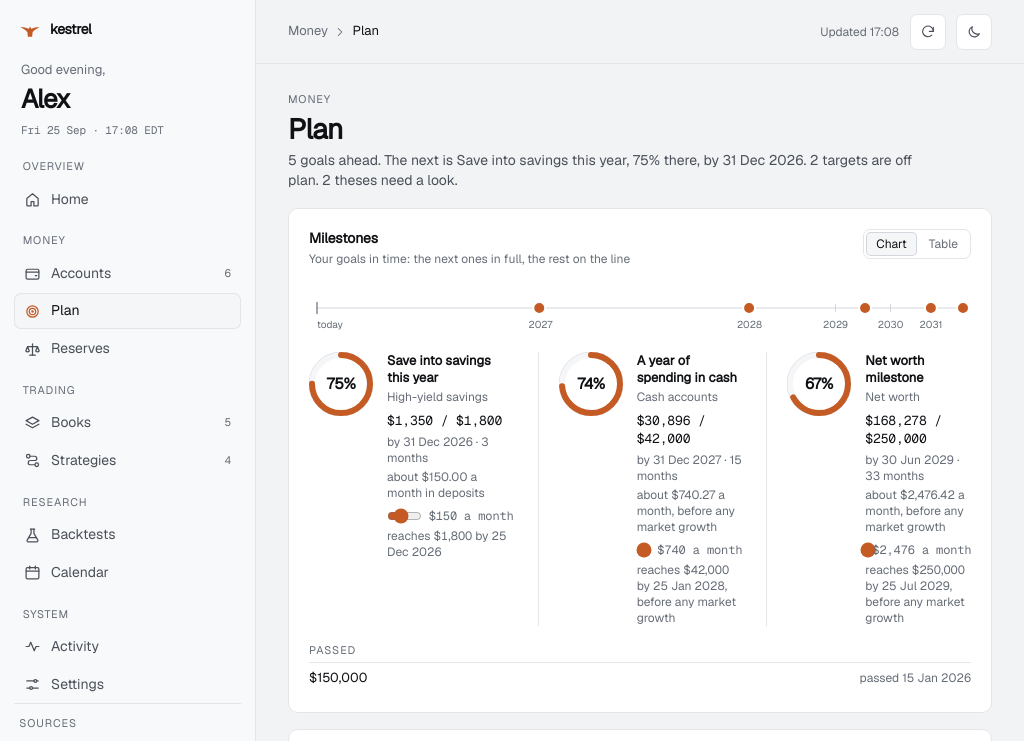
it: Plan › Milestones: the next three dated goals as cards with a ring each, and a table of every goal
This screenshot has width=1024, height=741.
Expected: the element named "75%" shows "by 31 Dec 2026", [387,434,489,466]
Expected: the picture named "Your goals in time" is shown, [309,278,971,334]
Click the button "Table" at (943, 244), box [919,232,968,256]
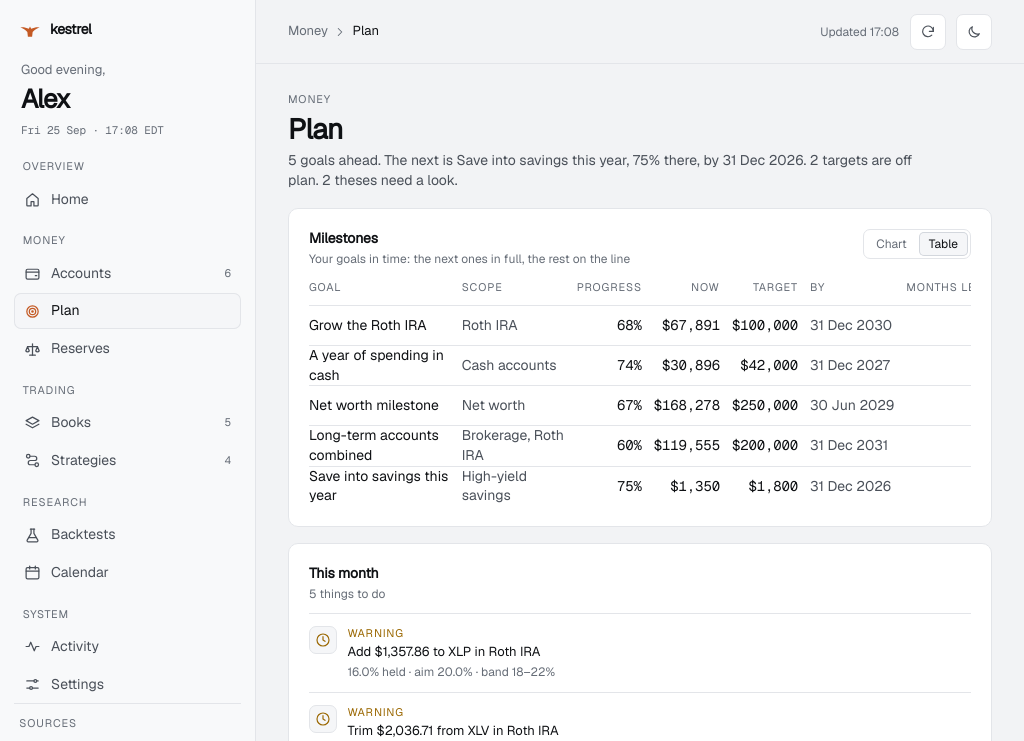
Expected: the row that starts with "Grow the Roth IRA" is shown, [309,316,427,334]
